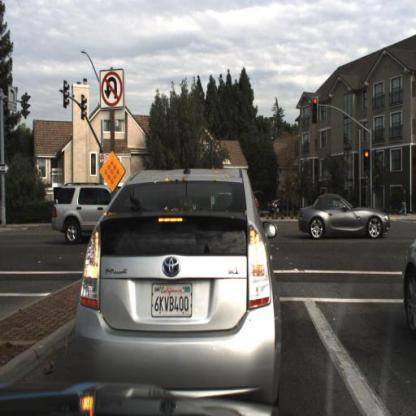car: (63, 158, 283, 409), (41, 169, 123, 257), (299, 193, 390, 241), (400, 226, 416, 342)
pedestrian: (398, 185, 411, 219)
trafficLight-Red: (361, 145, 373, 176), (311, 94, 321, 126)
